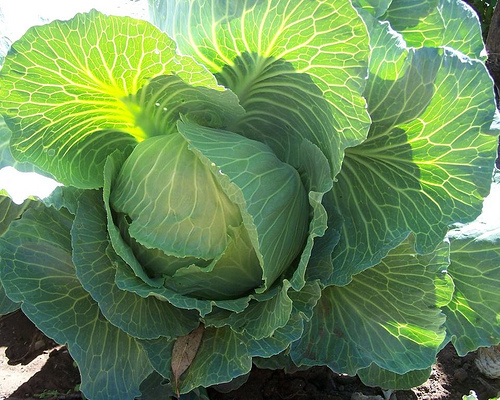cabbage: (108, 111, 309, 298)
